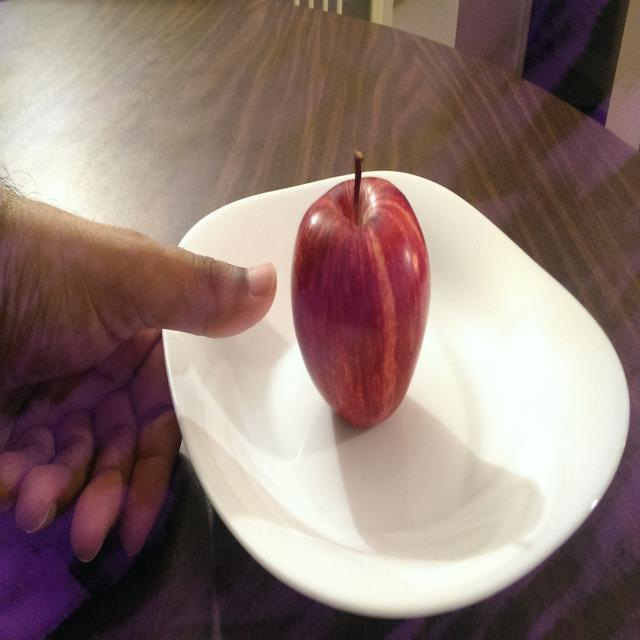Apple: (286, 144, 437, 433)
Finger: (186, 245, 280, 345)
